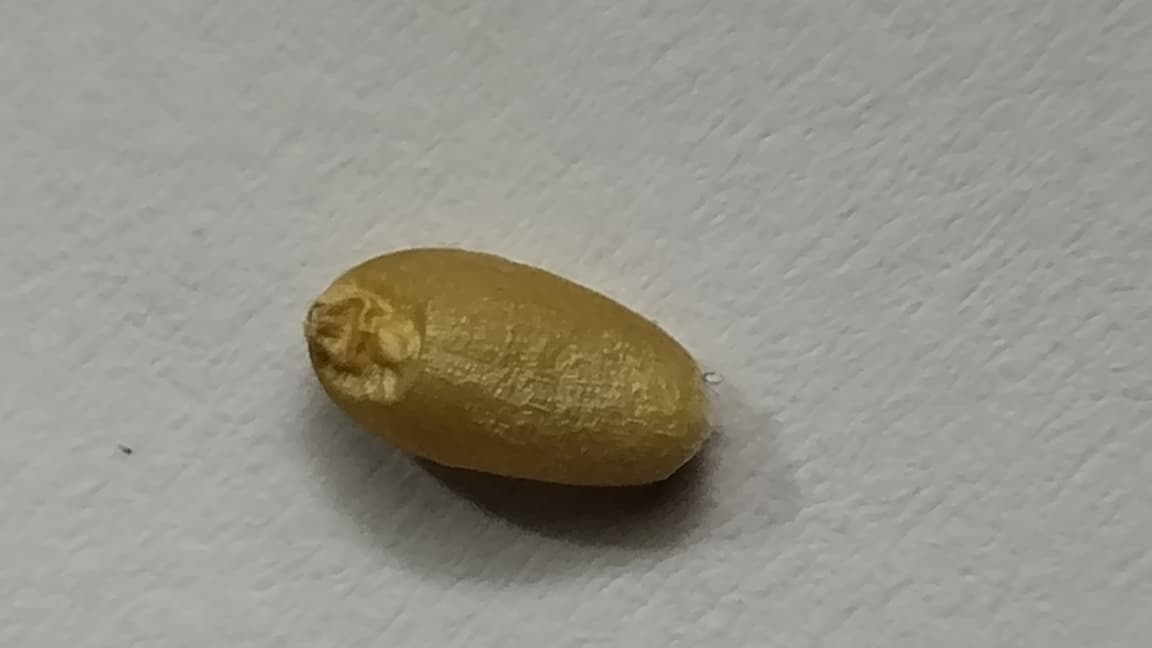healthy: (305, 247, 711, 486)
